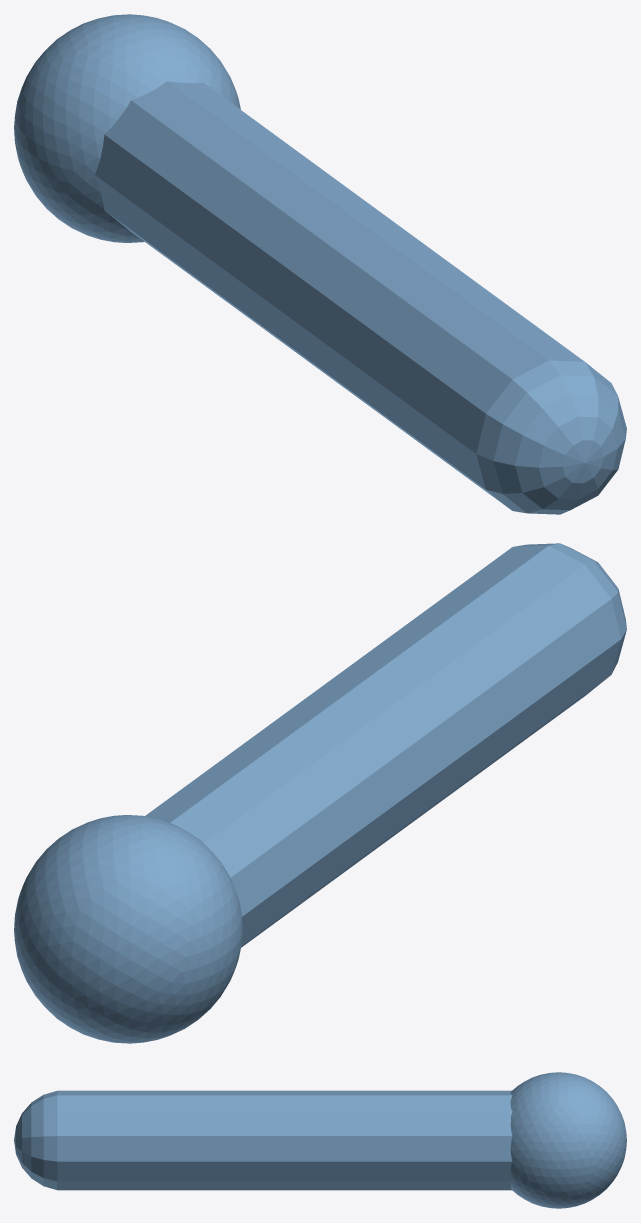
3 renders of one model, top to bottom at view 1: azimuth 30°, elevation 25°; view 2: azimuth 150°, elevation 25°; view 3: azimuth 270°, elevation 25°, orthographic. The views are drawn at different scales.
Parts seen in each view (by area): view 1: world; view 2: world; view 3: world.
Part boxes in pixels (left/top/right/bottom): world: left=14, top=14, right=626, bottom=514; world: left=14, top=543, right=626, bottom=1043; world: left=14, top=1072, right=626, bottom=1208.
Size of the model in its own units: 0.092 by 0.092 by 0.413.
